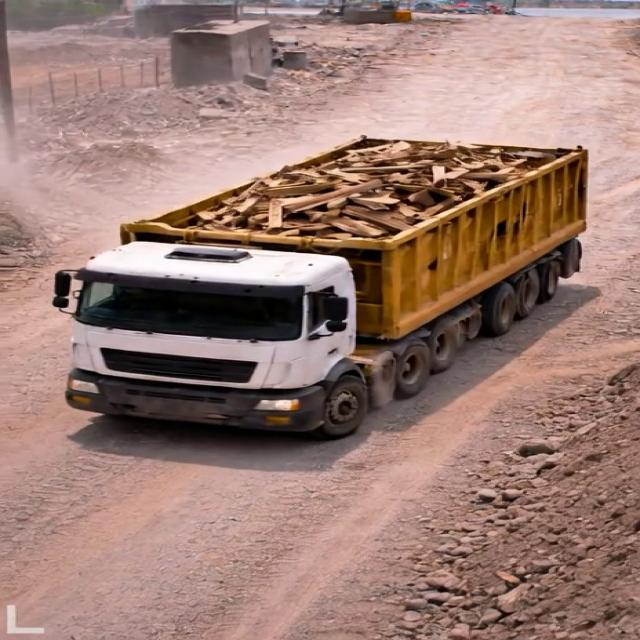Box: (118, 136, 590, 250)
Truck: (45, 113, 596, 433)
